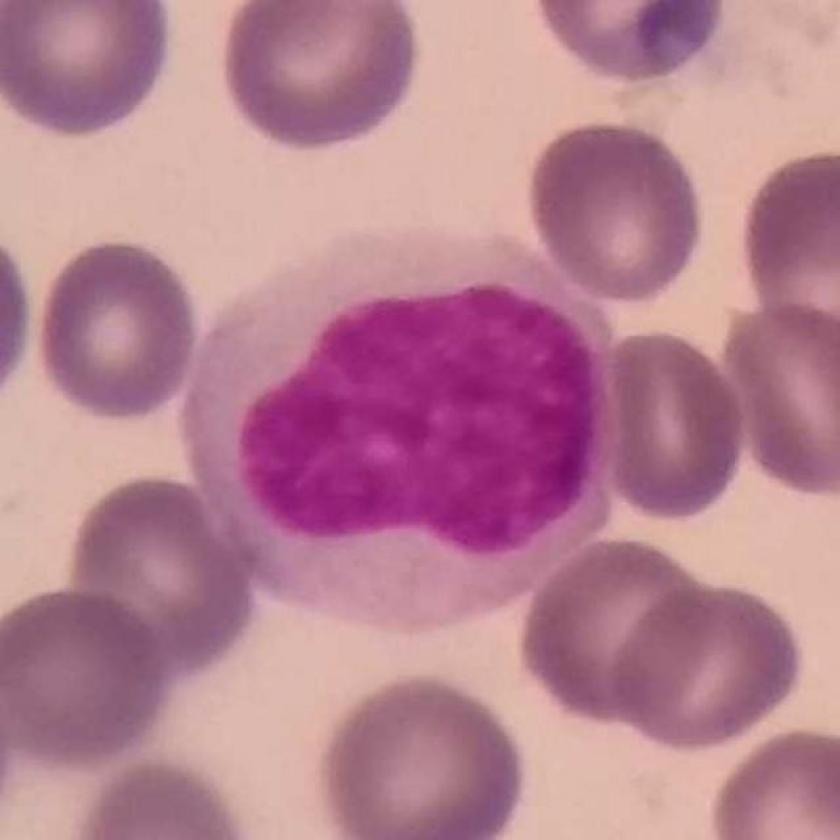monocyte: (187, 224, 630, 638)
